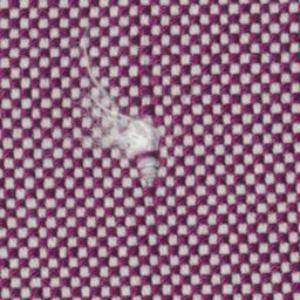fault: (59, 30, 167, 188)
